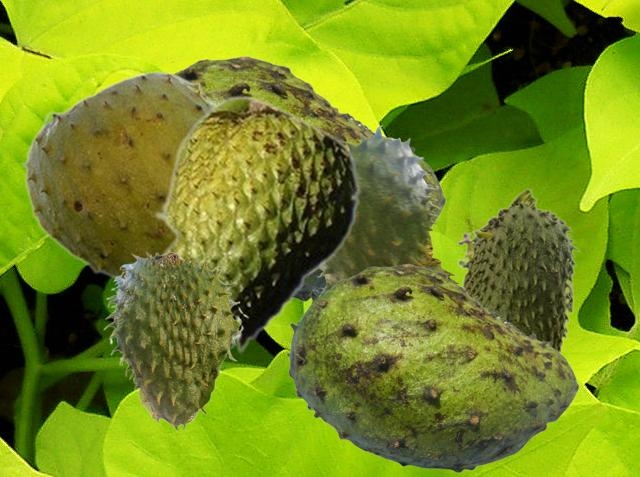guyabano: (174, 55, 445, 301), (286, 263, 578, 472), (153, 94, 360, 354), (20, 70, 215, 279), (103, 251, 248, 430), (316, 125, 459, 294), (457, 187, 579, 352)
